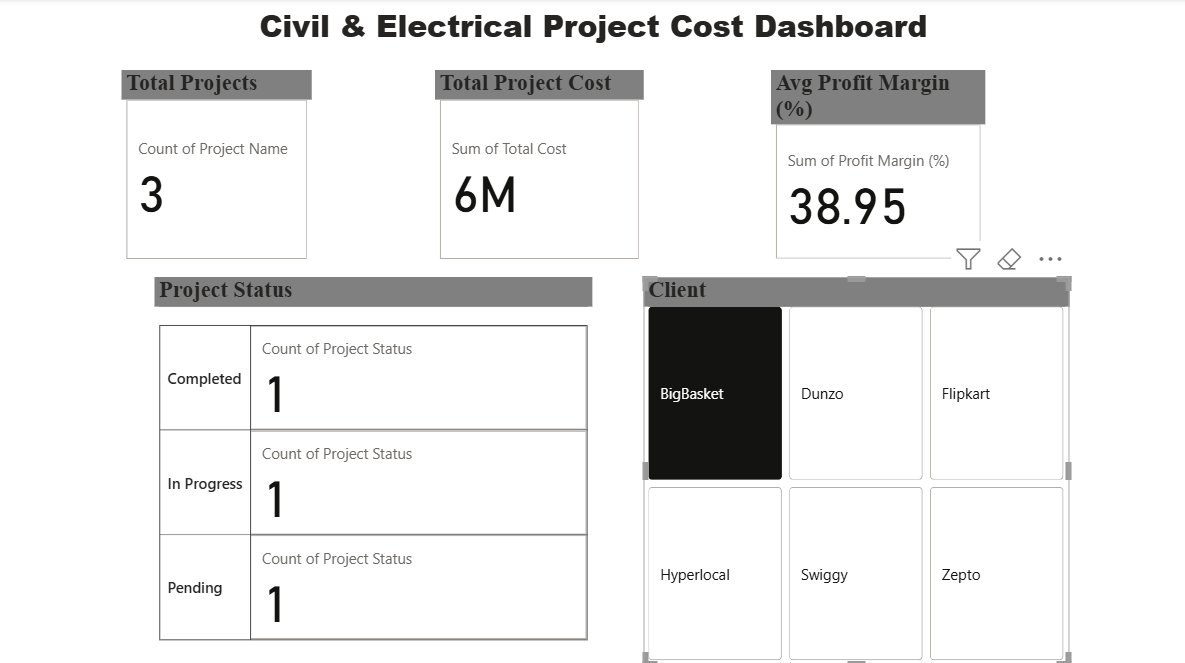

The dashboard page shown, as its layout file describes it:
{"tool":"powerbi","page":{"name":"Page 1","canvas":[1280,720],"ordinal":0},"visuals":[{"type":"cardVisual","title":"Total Project Cost","fields":{"Data":["Sum(cleaned_warehouse_projects.Total Cost)"]},"box":[469.6,77.7,225.1,208.9],"z":0},{"type":"cardVisual","title":"Avg Profit Margin (%)","fields":{"Data":["Sum(cleaned_warehouse_projects.Profit Margin (%))"]},"box":[832.3,77.7,231.5,208.9],"z":1000},{"type":"textbox","box":[47,1.6,1186.9,76.1],"z":2000},{"type":"cardVisual","title":"Total Projects","fields":{"Data":["CountNonNull(cleaned_warehouse_projects.Project Name)"]},"box":[131.2,77.7,205.6,208.9],"z":3000},{"type":"cardVisual","title":"Project Status","fields":{"Data":["CountNonNull(cleaned_warehouse_projects.Project Status)"],"Rows":["cleaned_warehouse_projects.Project Status"]},"box":[166.8,301.2,472.8,419.4],"z":4000},{"type":"advancedSlicerVisual","fields":{"Values":["cleaned_warehouse_projects.Client"]},"box":[694.6,301.2,459.9,419.4],"z":4001}]}

Visuals, with their boxes in screenshot pixels (x1, y1, x2, y2), scaled from the page's 1280x720 canvas onto the 1185x663 screenshot:
"Total Project Cost" cardVisual: [x1=435, y1=72, x2=643, y2=264]
"Avg Profit Margin (%)" cardVisual: [x1=771, y1=72, x2=985, y2=264]
textbox: [x1=44, y1=1, x2=1142, y2=72]
"Total Projects" cardVisual: [x1=121, y1=72, x2=312, y2=264]
"Project Status" cardVisual: [x1=154, y1=277, x2=592, y2=662]
advancedSlicerVisual - cleaned_warehouse_projects.Client: [x1=643, y1=277, x2=1069, y2=662]
